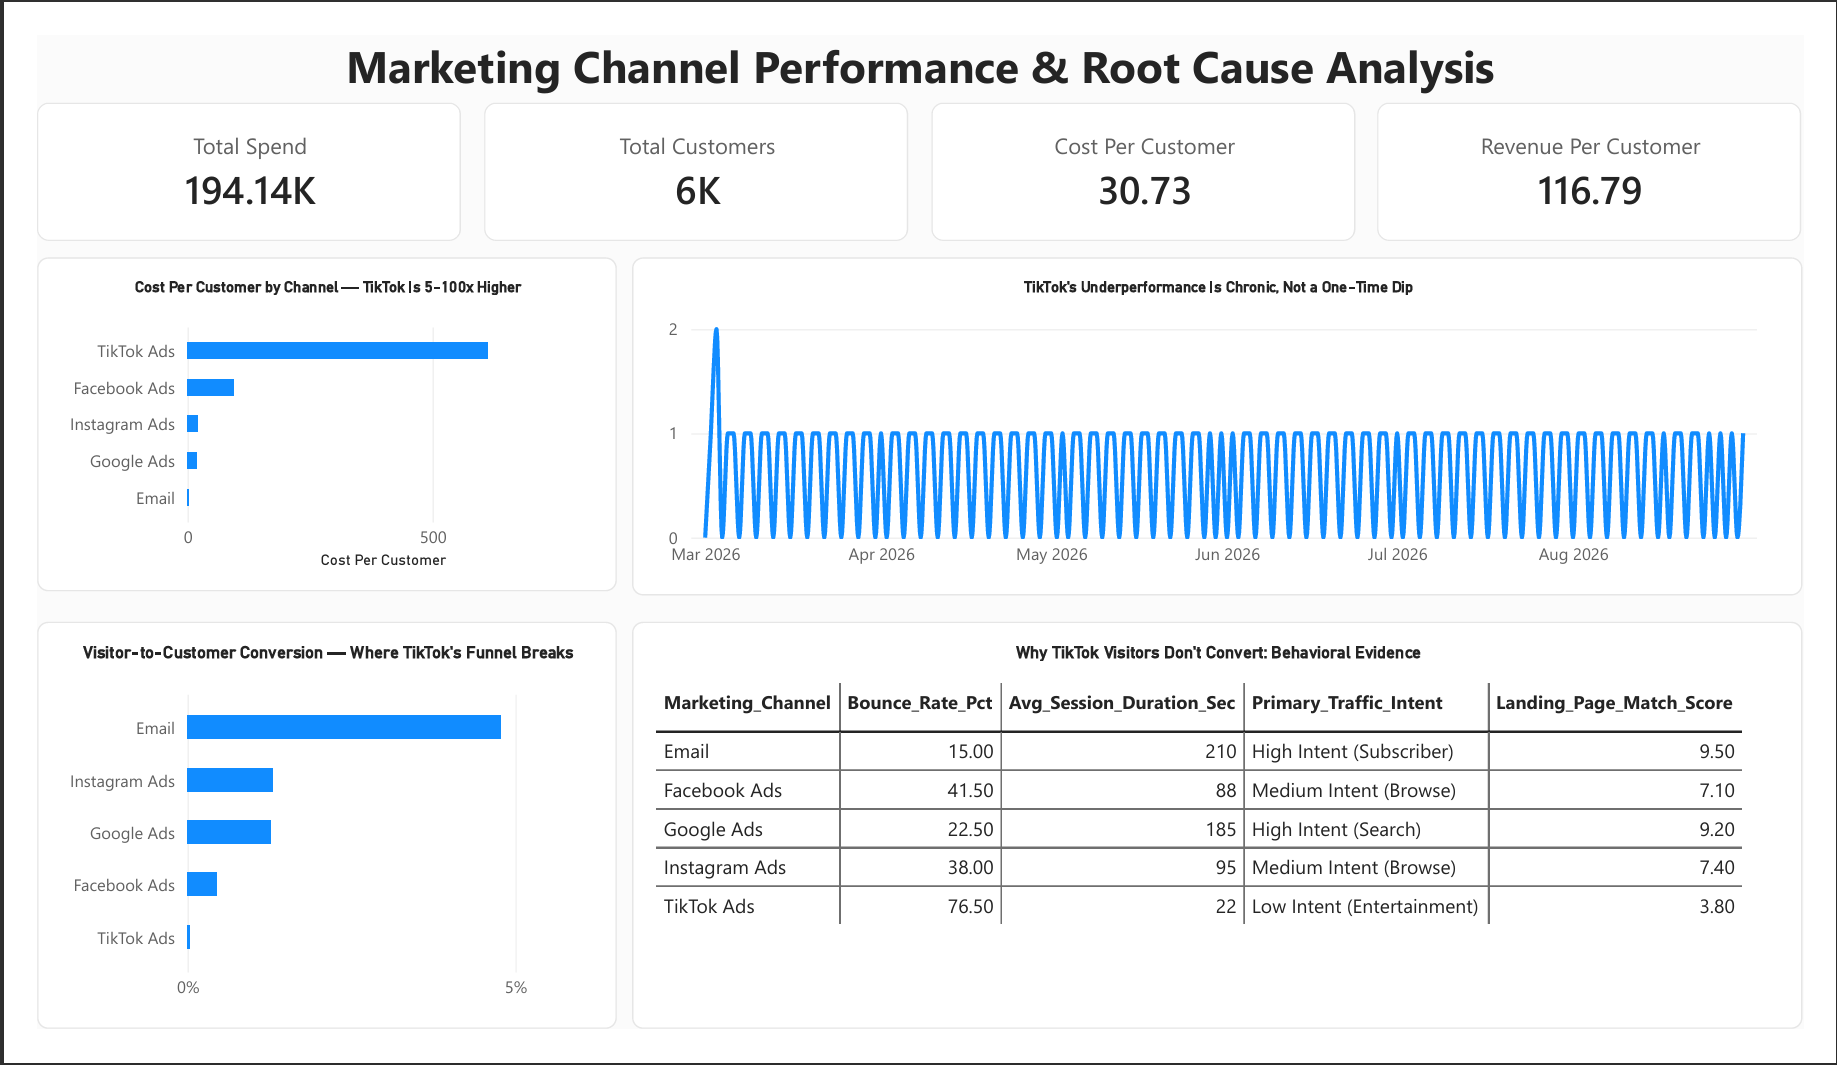

The dashboard page shown, as its layout file describes it:
{"tool":"powerbi","page":{"name":"Page 1","canvas":[1280,720],"ordinal":0},"visuals":[{"type":"textbox","box":[0,0,1280,50],"z":0},{"type":"cardVisual","fields":{"Data":["campaigns.Total Spend"]},"box":[0,49.1,307,100],"z":1000},{"type":"cardVisual","fields":{"Data":["campaigns.Total Customers"]},"box":[323.8,49.1,307,100.2],"z":2000},{"type":"cardVisual","fields":{"Data":["campaigns.Cost Per Customer"]},"box":[647.6,49.1,307,100.2],"z":3000},{"type":"clusteredBarChart","title":"Cost Per Customer by Channel — TikTok Is 5-100x Higher","fields":{"Category":["campaigns.Marketing_Channel"],"Y":["campaigns.Cost Per Customer"]},"box":[0,160.6,419.5,241.9],"z":4000},{"type":"clusteredBarChart","title":"Visitor-to-Customer Conversion — Where TikTok''s Funnel Breaks","fields":{"Category":["campaigns.Marketing_Channel"],"Y":["campaigns.Visitor to Customer %"]},"box":[0,425.2,419.5,294.8],"z":5000},{"type":"lineChart","title":"TikTok''s Underperformance Is Chronic, Not a One-Time Dip","fields":{"Category":["campaigns.Date"],"Y":["campaigns.Total Customers"]},"box":[430.9,160.6,848.5,245.7],"z":6000},{"type":"tableEx","title":"Why TikTok Visitors Don''t Convert: Behavioral Evidence","fields":{"Values":["channel_behavior.Marketing_Channel","channel_behavior.Bounce_Rate_Pct","channel_behavior.Avg_Session_Duration_Sec","channel_behavior.Primary_Traffic_Intent","channel_behavior.Landing_Page_Match_Score"]},"box":[430.9,425.2,848.5,294.8],"z":7000},{"type":"cardVisual","fields":{"Data":["campaigns.Revenue Per Customer"]},"box":[971.3,49.1,307,100],"z":8000}]}

Visuals, with their boxes in screenshot pixels (x1, y1, x2, y2), scaled from the page's 1280x720 canvas onto the 1837x1065 screenshot:
textbox: 0 0 1836 74
cardVisual - campaigns.Total Spend: 0 73 441 221
cardVisual - campaigns.Total Customers: 465 73 905 221
cardVisual - campaigns.Cost Per Customer: 929 73 1370 221
"Cost Per Customer by Channel — TikTok Is 5-100x Higher" clusteredBarChart: 0 238 602 595
"Visitor-to-Customer Conversion — Where TikTok''s Funnel Breaks" clusteredBarChart: 0 629 602 1064
"TikTok''s Underperformance Is Chronic, Not a One-Time Dip" lineChart: 618 238 1836 601
"Why TikTok Visitors Don''t Convert: Behavioral Evidence" tableEx: 618 629 1836 1064
cardVisual - campaigns.Revenue Per Customer: 1394 73 1835 221
